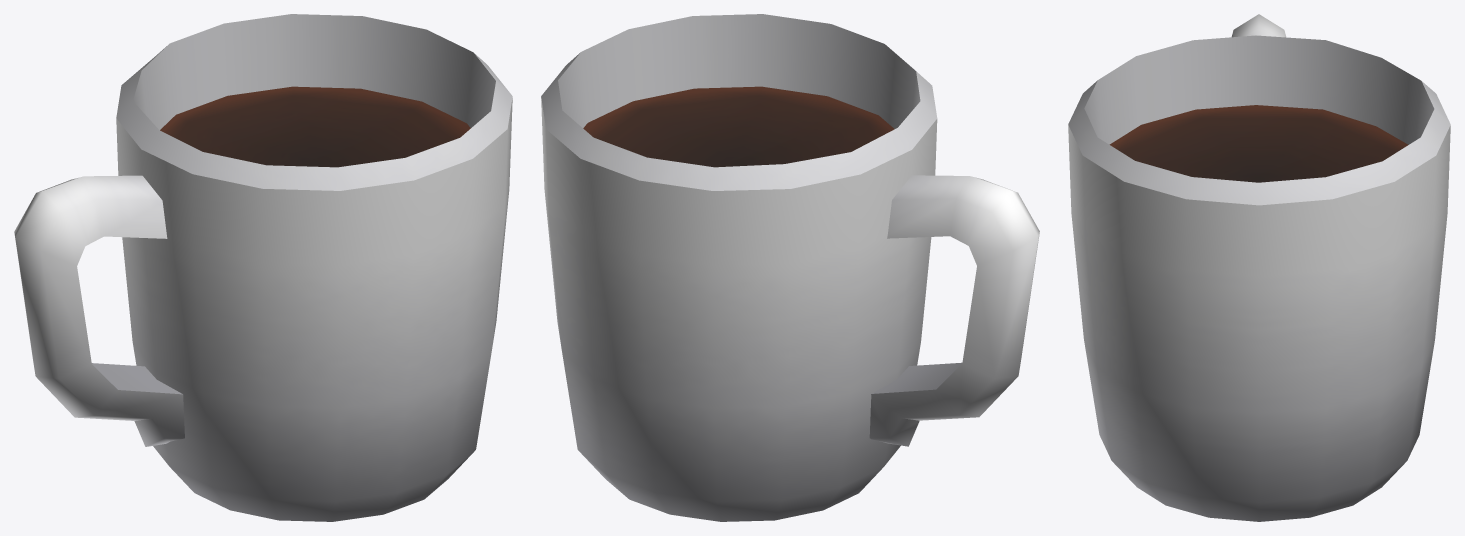
File: m_Mug01_Tea04.fbx
3 views of the same model, side by side, from view 1: azimuth 30°, elevation 25°; view 2: azimuth 150°, elevation 25°; view 3: azimuth 270°, elevation 25° (orthographic). The views are drawn at different scales.
Visible parts, largest first — view 1: m_Mug01_Tea04; view 2: m_Mug01_Tea04; view 3: m_Mug01_Tea04.
Part boxes in pixels (box(x1,y1,x2,y2)): m_Mug01_Tea04: box(14, 14, 512, 521); m_Mug01_Tea04: box(541, 14, 1039, 521); m_Mug01_Tea04: box(1068, 14, 1450, 521).
Bounding box in the file's own units: 15.22 × 11.5 × 11.16.
